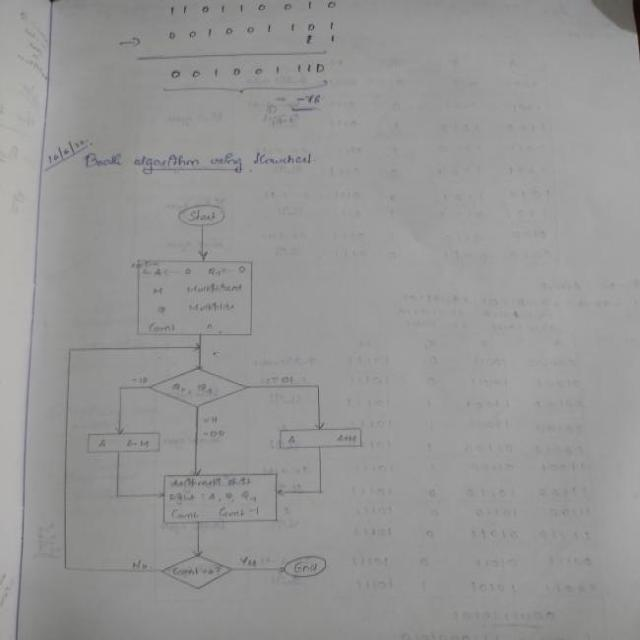Figure Detection - v3 Dataset Version2: (50, 188, 378, 593)
